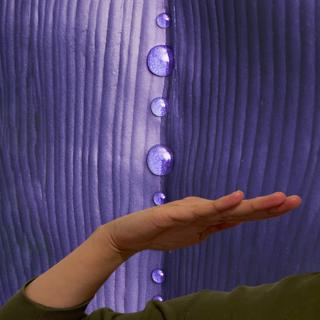WAIT: (111, 183, 307, 258)
